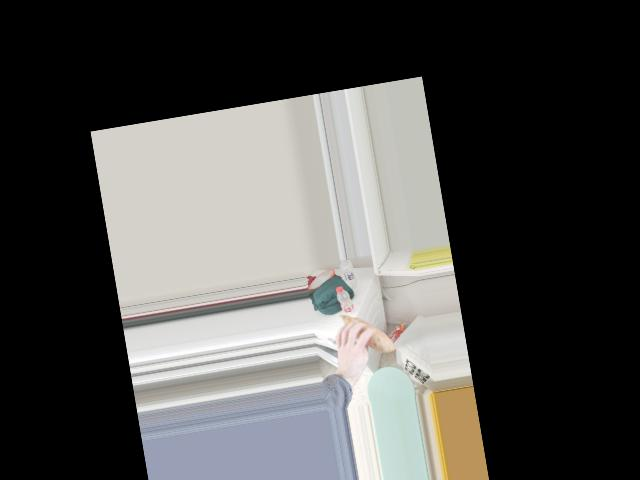sweet_potato: (336, 309, 392, 358)
